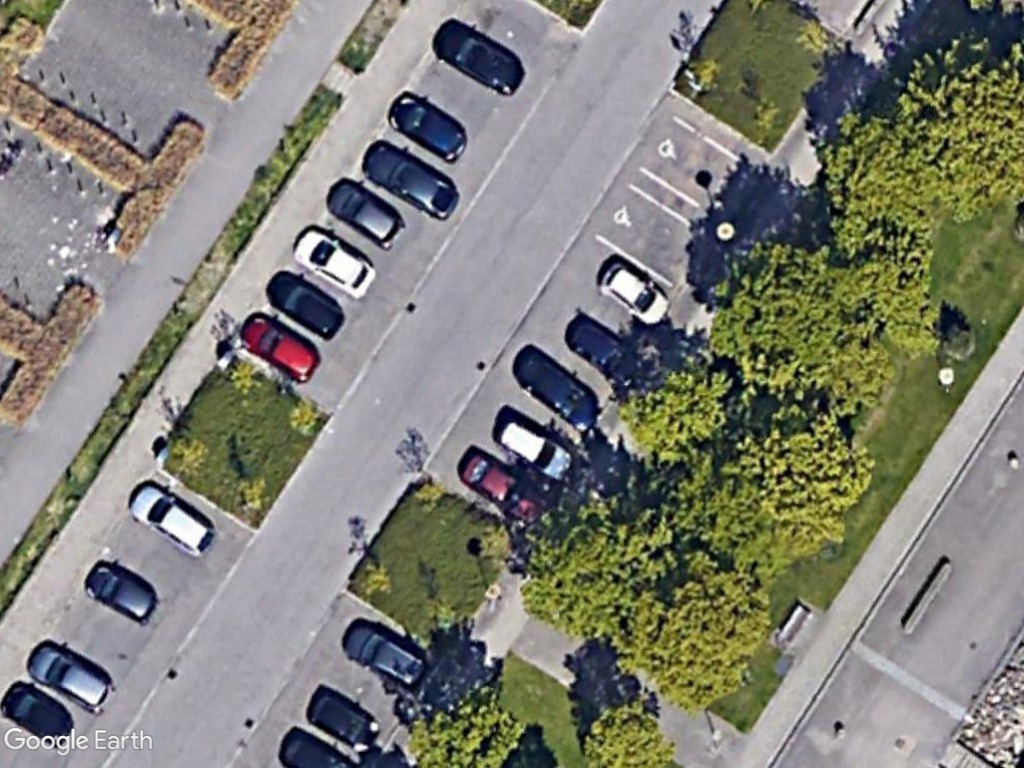car: (356, 137, 466, 223), (433, 19, 535, 103), (122, 480, 220, 564), (512, 350, 607, 436), (453, 444, 551, 527), (23, 643, 122, 722), (289, 222, 382, 303), (562, 313, 656, 390), (322, 174, 410, 256), (236, 309, 325, 389), (263, 267, 353, 344), (384, 88, 472, 165), (303, 679, 387, 758), (343, 620, 429, 694), (490, 415, 578, 483), (593, 257, 675, 329), (79, 558, 163, 628), (0, 676, 70, 747)
